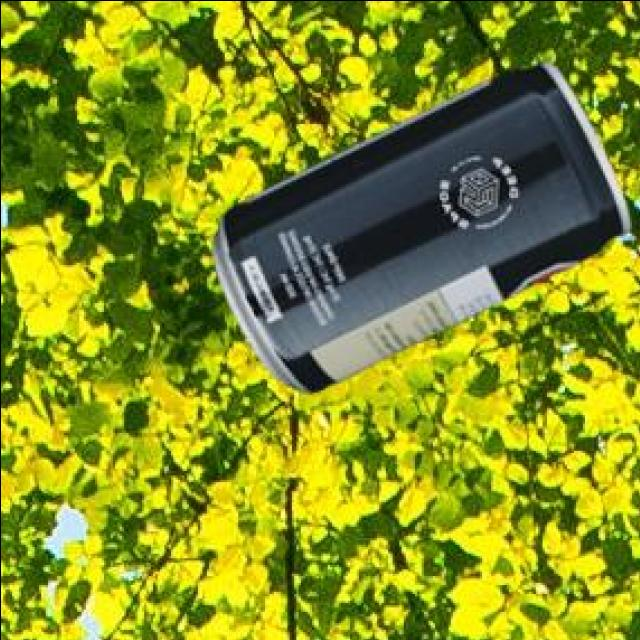logam: (209, 64, 625, 395)
